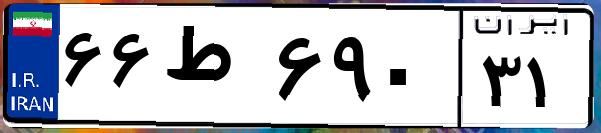0: (385, 28, 445, 110)
1: (525, 38, 570, 115)
3: (475, 38, 525, 113)
6: (270, 28, 330, 110), (57, 26, 110, 100), (110, 28, 158, 98)
9: (330, 28, 385, 110)
ط: (158, 20, 270, 120)
